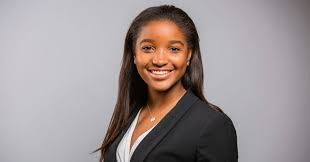person: (122, 5, 200, 93)
